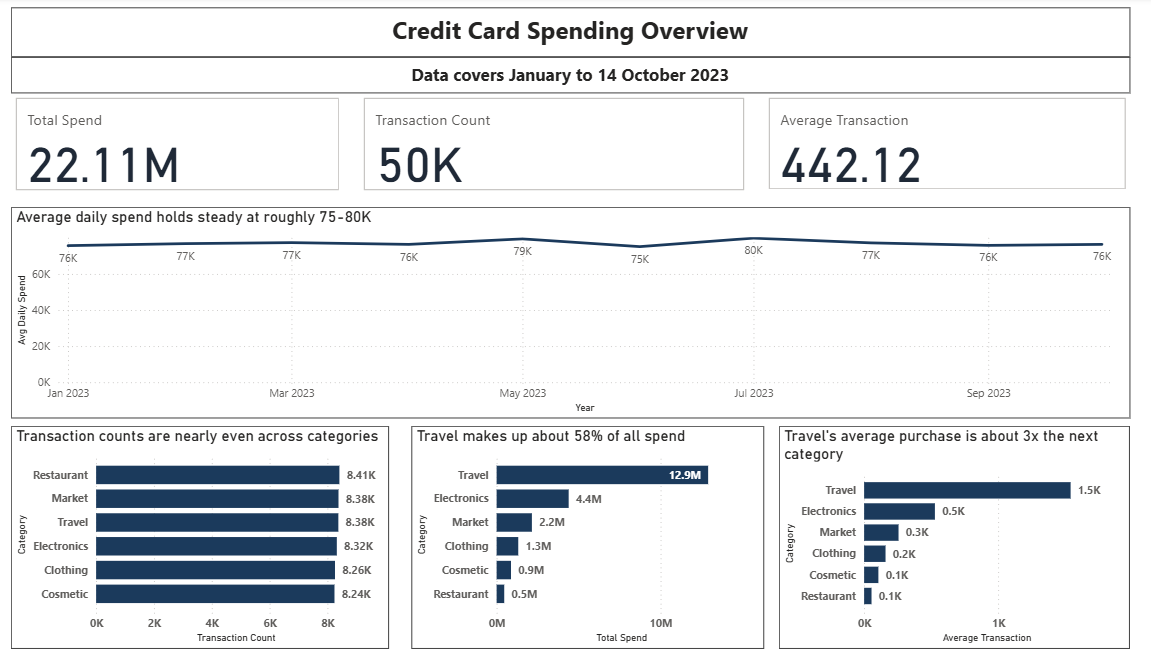

The page's visual inventory and layout, read from the dashboard file:
{"tool":"powerbi","page":{"name":"Page 1","canvas":[1280,720],"ordinal":0},"visuals":[{"type":"cardVisual","fields":{"Data":["Transactions.Total Spend"]},"box":[13.3,106,367.7,112.6],"z":0},{"type":"cardVisual","fields":{"Data":["Transactions.Transaction Count"]},"box":[397.6,106,430.7,112.6],"z":1000},{"type":"cardVisual","fields":{"Data":["Transactions.Average Transaction"]},"box":[844.8,106,404.2,106],"z":2000},{"type":"lineChart","title":"Average daily spend holds steady at roughly 75-80K","fields":{"Y":["Transactions.Avg Daily Spend"],"Category":["Transactions.Month start.Variation.Date Hierarchy.Year","Transactions.Month start.Variation.Date Hierarchy.Quarter","Transactions.Month start.Variation.Date Hierarchy.Month","Transactions.Month start.Variation.Date Hierarchy.Day"]},"box":[13.3,231.9,1235.7,233.6],"z":3000},{"type":"clusteredBarChart","title":"Transaction counts are nearly even across categories","fields":{"Category":["Transactions.Category"],"Y":["Transactions.Transaction Count"]},"box":[13.2,474.3,417.6,245.7],"z":4000},{"type":"clusteredBarChart","title":"Travel makes up about 58% of all spend","fields":{"Category":["Transactions.Category"],"Y":["Transactions.Total Spend"]},"box":[455.4,474.3,389.3,245.7],"z":5000},{"type":"clusteredBarChart","title":"Travel''s average purchase is about 3x the next category","fields":{"Category":["Transactions.Category"],"Y":["Transactions.Average Transaction"]},"box":[861.7,474.3,387.4,245.7],"z":6000},{"type":"textbox","box":[13.3,66.3,1235.7,39.8],"z":7000},{"type":"textbox","box":[13.3,11.6,1235.7,54.7],"z":8000}]}

Visuals, with their boxes in screenshot pixels (x1, y1, x2, y2), scaled from the page's 1280x720 canvas onto the 1151x649 screenshot:
cardVisual - Transactions.Total Spend: l=12, t=96, r=343, b=197
cardVisual - Transactions.Transaction Count: l=358, t=96, r=745, b=197
cardVisual - Transactions.Average Transaction: l=760, t=96, r=1123, b=191
"Average daily spend holds steady at roughly 75-80K" lineChart: l=12, t=209, r=1123, b=420
"Transaction counts are nearly even across categories" clusteredBarChart: l=12, t=428, r=387, b=648
"Travel makes up about 58% of all spend" clusteredBarChart: l=410, t=428, r=760, b=648
"Travel''s average purchase is about 3x the next category" clusteredBarChart: l=775, t=428, r=1123, b=648
textbox: l=12, t=60, r=1123, b=96
textbox: l=12, t=10, r=1123, b=60
